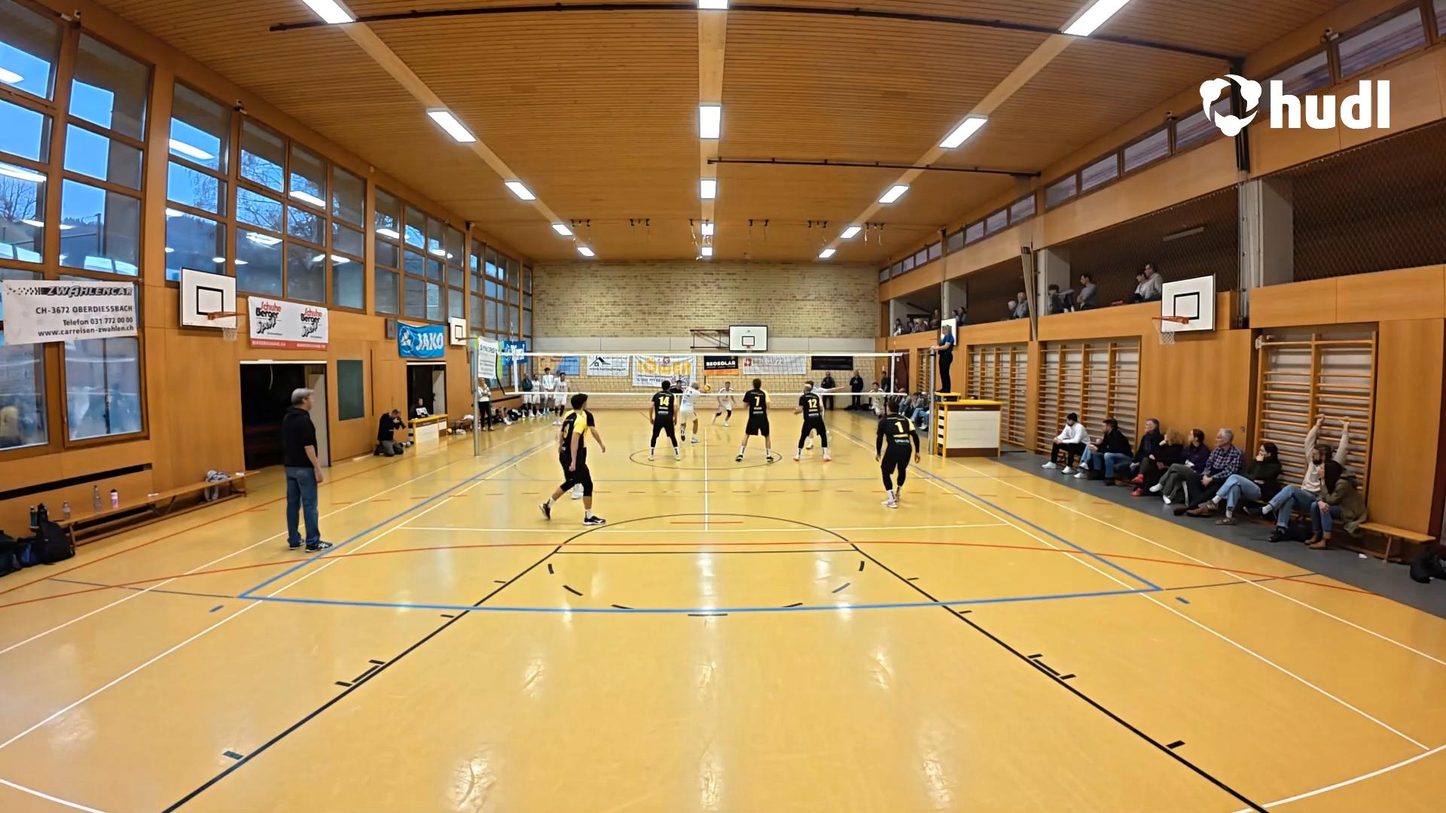Player: (538, 403, 602, 524), (875, 402, 914, 507), (737, 379, 777, 464), (794, 380, 832, 462), (644, 384, 683, 462), (563, 391, 603, 449), (859, 374, 891, 422), (667, 382, 691, 445), (712, 379, 738, 428), (551, 373, 570, 421)
Set: (677, 378, 710, 444)
ball: (699, 381, 715, 397)
